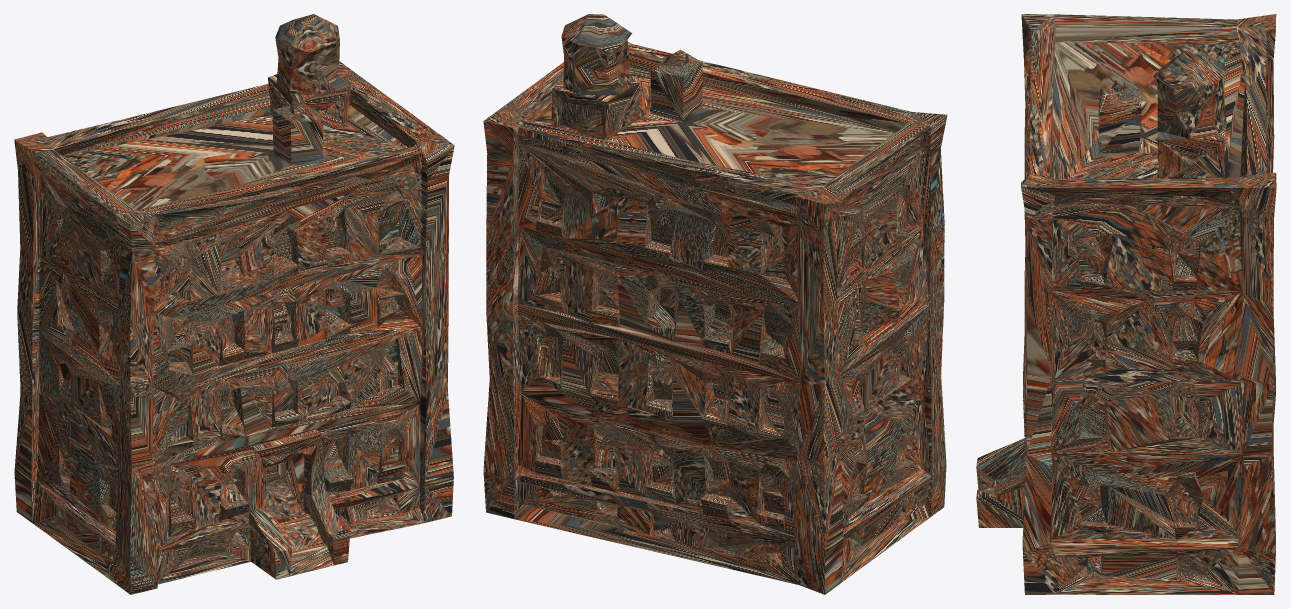
Rendered from town_flats_4.glb.
3 renders of one model, left to right at view 1: azimuth 30°, elevation 25°; view 2: azimuth 150°, elevation 25°; view 3: azimuth 270°, elevation 25°, orthographic. The views are drawn at different scales.
Parts seen in each view (by area): view 1: normalize; view 2: normalize; view 3: normalize.
Part boxes in pixels (x1,y1,x2,y2): normalize: (14,14,454,594); normalize: (483,14,947,594); normalize: (976,14,1276,594).
Size of the model in its own units: 1 by 1.36 by 0.7304.
1 material, 1 textured.
